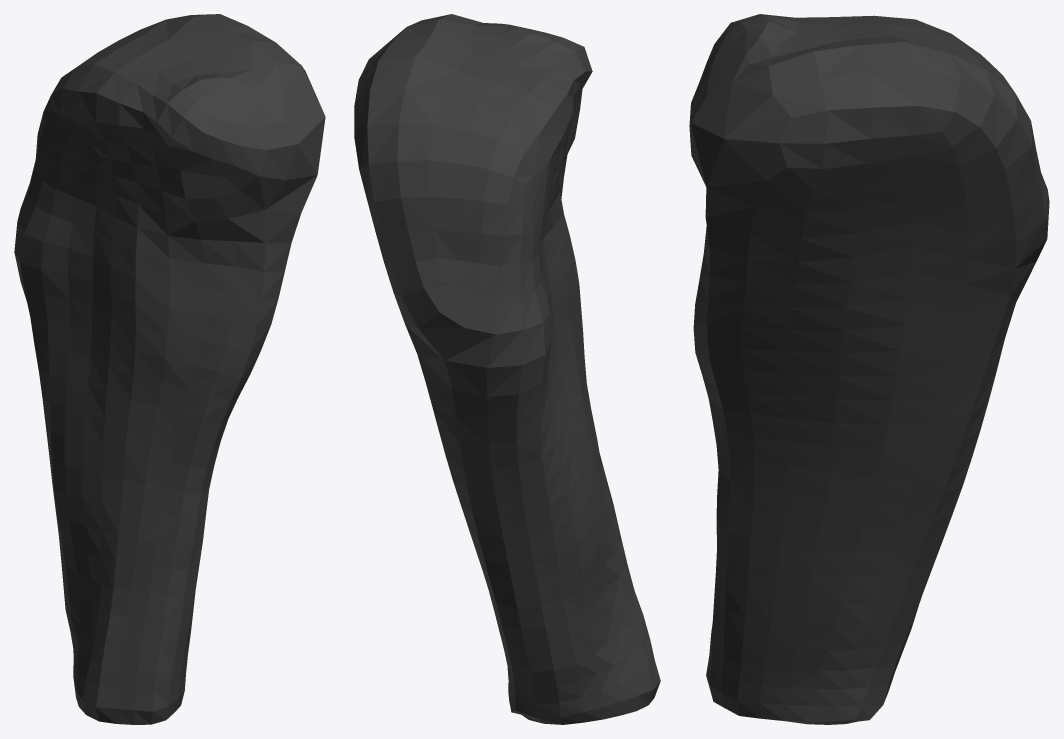
Rendered from Fourth_metatarsal.glb.
3 renders of one model, left to right at view 1: azimuth 30°, elevation 25°; view 2: azimuth 150°, elevation 25°; view 3: azimuth 270°, elevation 25°, orthographic. The views are drawn at different scales.
Visible parts, largest first — view 1: Fourth_metatarsal; view 2: Fourth_metatarsal; view 3: Fourth_metatarsal.
Part boxes in pixels (x1,y1,x2,y2): Fourth_metatarsal: (14,14,325,724); Fourth_metatarsal: (354,14,660,724); Fourth_metatarsal: (689,14,1049,724).
Size of the model in its own units: 53.68 by 134 by 60.46.
1 material, 1 textured.
